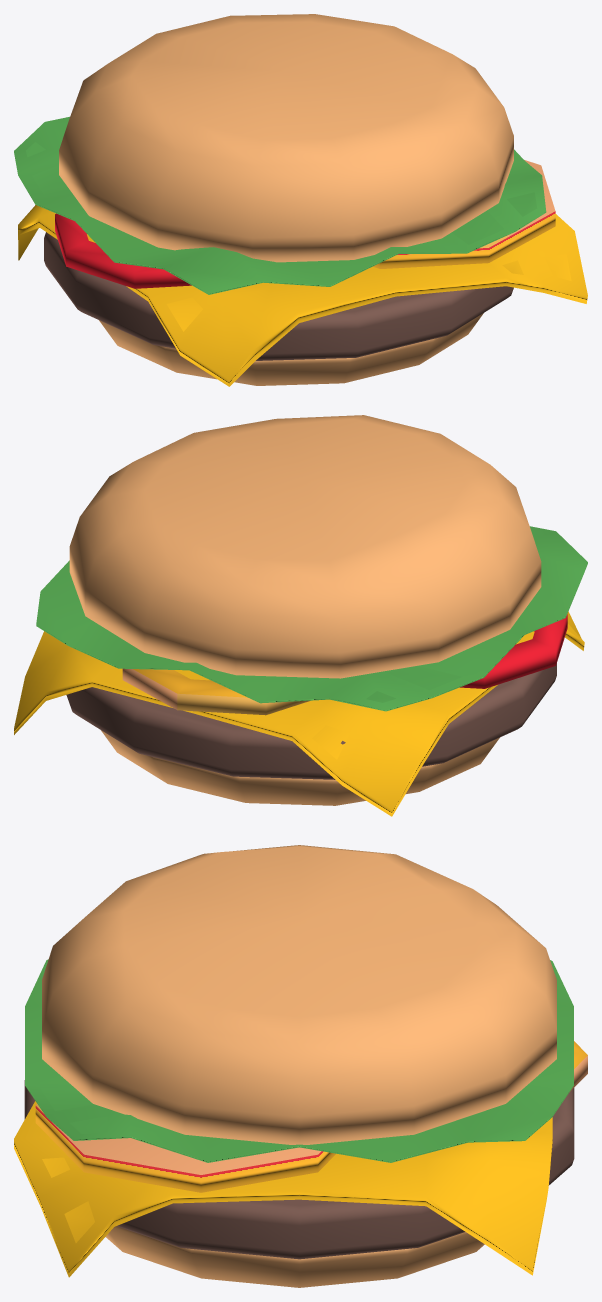
File: Burger.fbx
3 views of the same model, one above another, from view 1: azimuth 30°, elevation 25°; view 2: azimuth 150°, elevation 25°; view 3: azimuth 270°, elevation 25° (orthographic). The views are drawn at different scales.
Parts seen in each view (by area): view 1: Burger; view 2: Burger; view 3: Burger.
Boxes of the visible parts, box(x1,y1,x2,y2) form: Burger: box(14, 14, 587, 386); Burger: box(14, 415, 587, 816); Burger: box(14, 845, 587, 1287).
Size of the model in its own units: 41.92 by 22.21 by 40.58.
